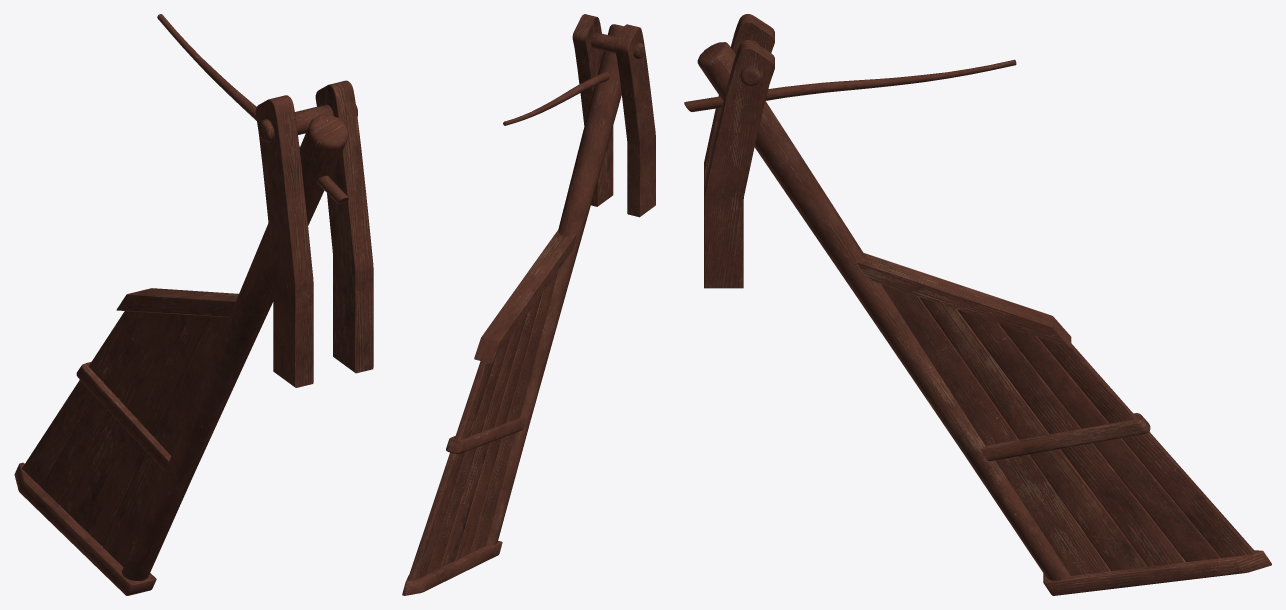
The model's file is SM_Handle.fbx.
The picture shows the model from 3 angles, left to right: view 1: azimuth 30°, elevation 25°; view 2: azimuth 150°, elevation 25°; view 3: azimuth 270°, elevation 25°; orthographic projection. The views are drawn at different scales.
Visible parts, largest first — view 1: SM_Handle; view 2: SM_Handle; view 3: SM_Handle.
Boxes of the visible parts, bbox=[...] form: SM_Handle: bbox=[14, 14, 373, 595]; SM_Handle: bbox=[402, 14, 655, 595]; SM_Handle: bbox=[684, 14, 1271, 595].
Bounding box in the file's own units: 94 × 614 × 584.
